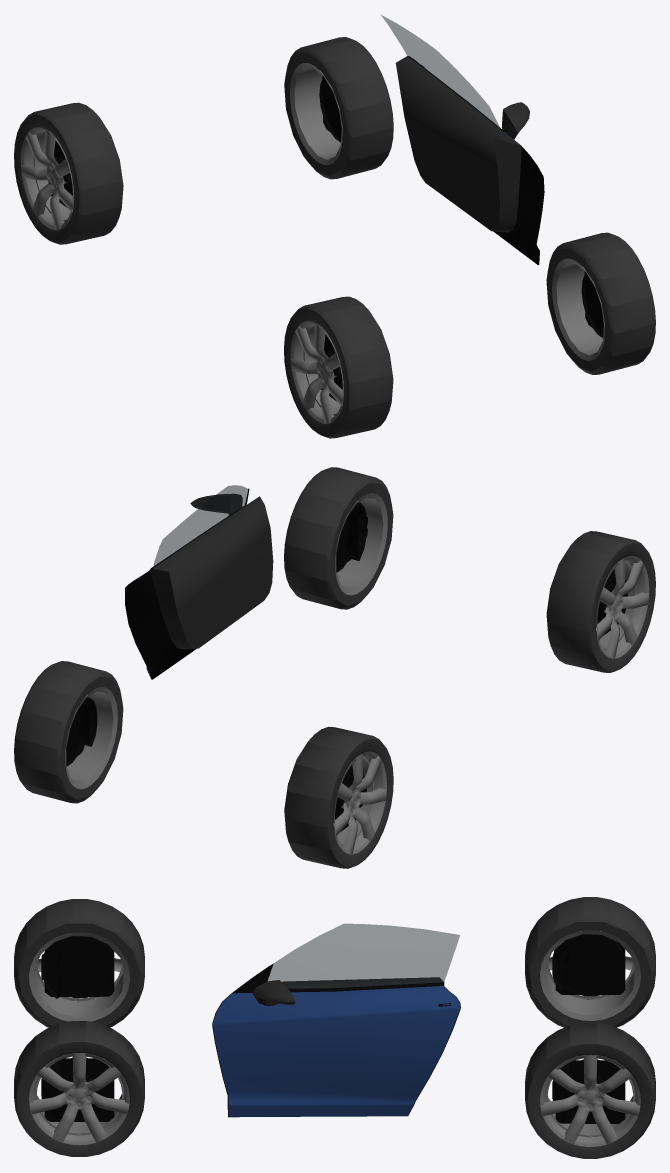
File: nissan-front-wheel.dae
The picture shows the model from 3 angles, top to bottom: view 1: azimuth 30°, elevation 25°; view 2: azimuth 150°, elevation 25°; view 3: azimuth 270°, elevation 25°; orthographic projection. The views are drawn at different scales.
Parts seen in each view (by area): view 1: DoorL, TireRL, TireFL, TireFR, TireRR, TireRR1, TireFR1, WindFL, TireFL1, TireRL1, RotorRL, RotorFL (+1 smaller); view 2: DoorL, TireFR1, TireRR1, TireFL1, TireRL1, WindFL, TireRL, TireFL, BrakeFL, MirrorL, BrakeRL, TireRR (+1 smaller); view 3: DoorL, WindFL, TireRR, TireFR, TireRL1, TireFL1, TireRL, TireFL, RotorRR, RotorFR, TireFR1, TireRR1 (+4 smaller).
Part boxes in pixels (x1,y1,x2,y2): DoorL: (395, 56, 544, 264); TireRL: (284, 39, 393, 179); TireFL: (546, 240, 655, 374); TireFR: (295, 304, 393, 437); TireRR: (25, 105, 123, 243); TireRR1: (14, 102, 92, 244); TireFR1: (284, 296, 362, 438); WindFL: (381, 15, 500, 129); TireFL1: (546, 232, 624, 371); TireRL1: (284, 37, 362, 175); RotorRL: (319, 75, 341, 142); RotorFL: (581, 271, 602, 337); DoorL: (125, 488, 273, 679); TireFR1: (547, 533, 655, 672); TireRR1: (285, 734, 393, 868); TireFL1: (284, 469, 393, 609); TireRL1: (14, 664, 123, 803); WindFL: (153, 485, 247, 567); TireRL: (48, 661, 122, 799); TireFL: (325, 467, 392, 605); BrakeFL: (346, 502, 367, 560); MirrorL: (190, 493, 242, 515); BrakeRL: (78, 697, 97, 746); TireRR: (284, 726, 372, 844); DoorL: (212, 963, 460, 1117); WindFL: (268, 923, 459, 988); TireRR: (525, 897, 655, 1027); TireFR: (14, 899, 144, 1027); TireRL1: (527, 1022, 655, 1158); TireFL1: (16, 1021, 144, 1156); TireRL: (525, 1022, 653, 1158); TireFL: (14, 1021, 142, 1156); RotorRR: (555, 934, 625, 996); RotorFR: (44, 936, 114, 997); TireFR1: (34, 899, 144, 1017); TireRR1: (545, 897, 655, 1015).
Size of the model in its own units: 1.95 by 1.27 by 3.47.
